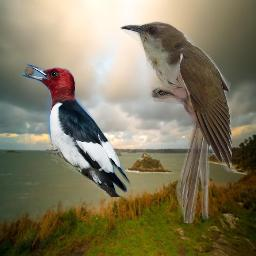Cuckoo: (120, 20, 232, 223)
Woodpecker: (21, 61, 133, 197)
